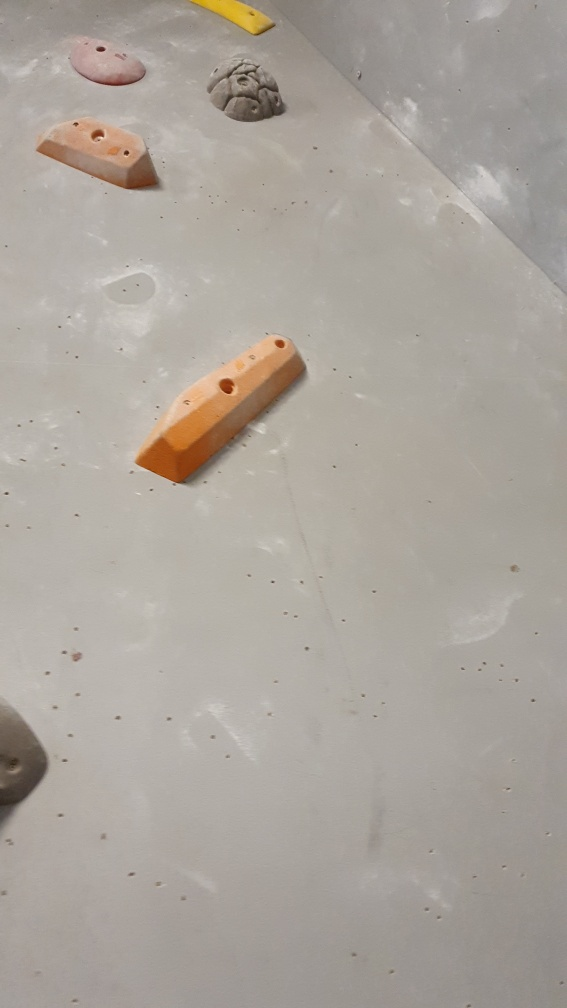Crimp: (188, 1, 275, 42)
Jug: (200, 50, 287, 122)
Pinch: (134, 333, 307, 485), (31, 115, 160, 195)
